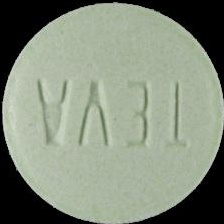51655-073: (0, 0, 224, 224)
